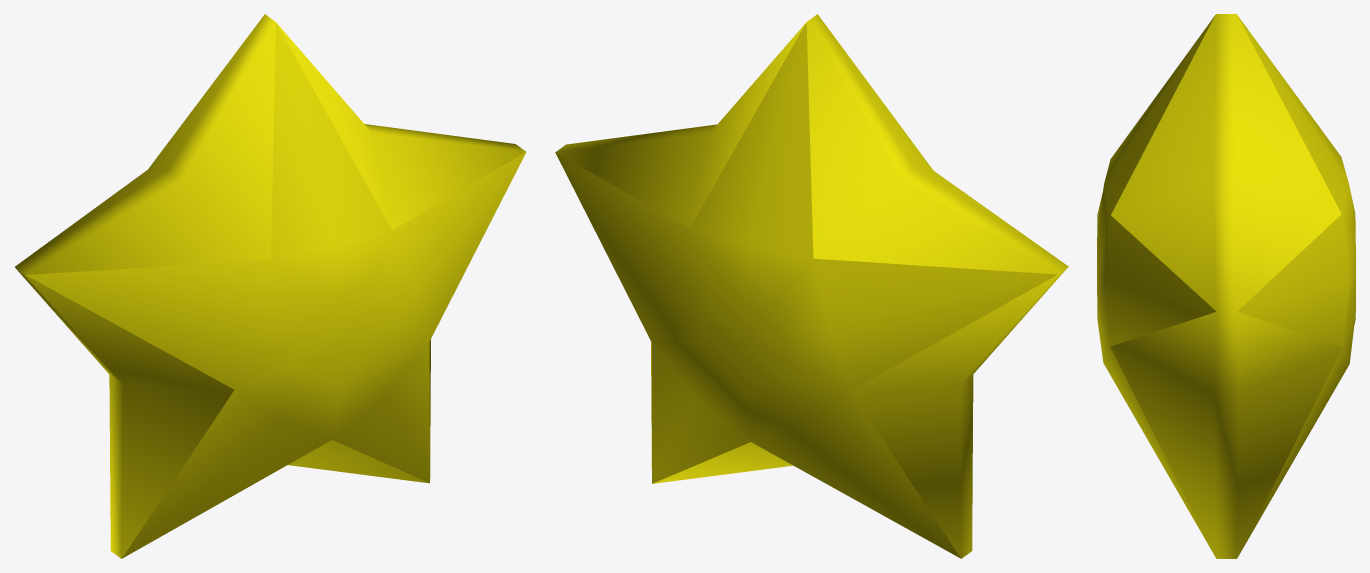
File: ChristmasDecoStar.fbx
The picture shows the model from 3 angles, left to right: view 1: azimuth 30°, elevation 25°; view 2: azimuth 150°, elevation 25°; view 3: azimuth 270°, elevation 25°; orthographic projection. The views are drawn at different scales.
Parts seen in each view (by area): view 1: Christmas_Tree_Star; view 2: Christmas_Tree_Star; view 3: Christmas_Tree_Star.
Boxes of the visible parts, x1,y1,x2,y2 form: Christmas_Tree_Star: [15, 14, 526, 558]; Christmas_Tree_Star: [555, 14, 1068, 558]; Christmas_Tree_Star: [1097, 14, 1355, 558].
Size of the model in its own units: 25.17 by 23.93 by 11.86.
